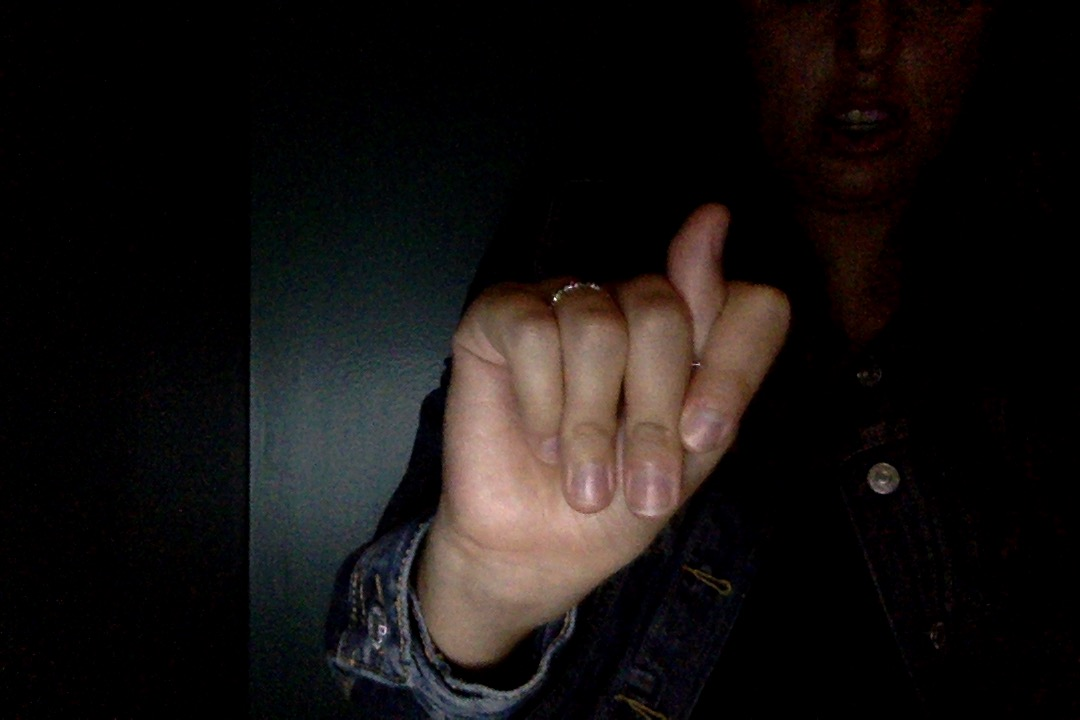t: (415, 190, 800, 700)
